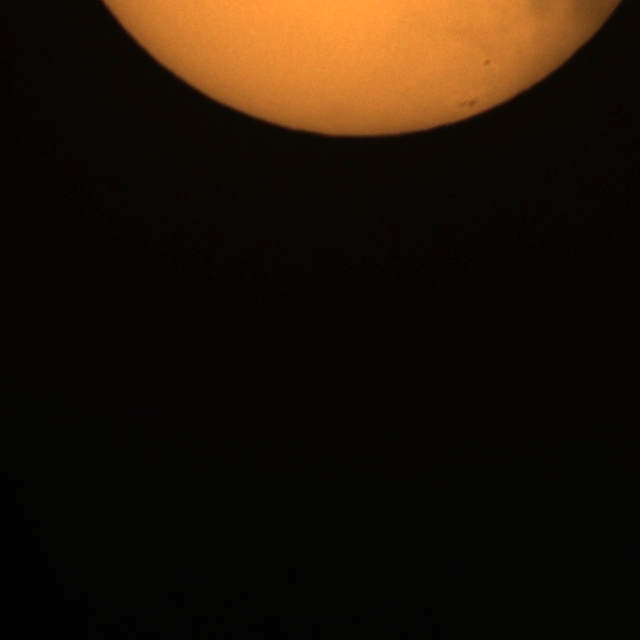sunspot: (459, 96, 479, 110), (483, 59, 491, 67)
